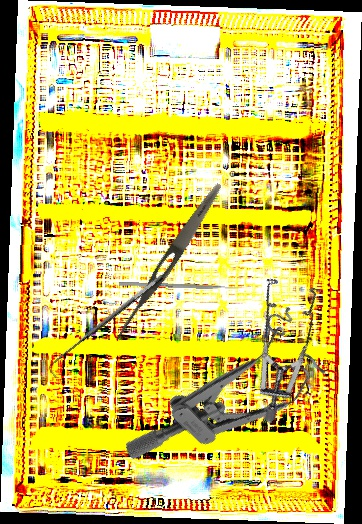Dressing Forceps: (110, 179, 226, 347)
Hook Surgical: (43, 273, 171, 378)
Pusher: (118, 281, 246, 291)
Speculum: (120, 290, 343, 515), (196, 258, 360, 425)
